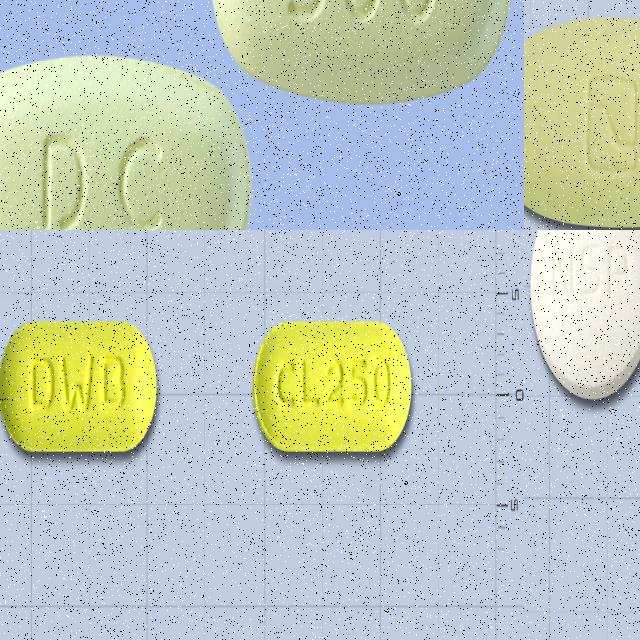Ciproctan - 500mg: (527, 230, 640, 410)
Claroma: (524, 14, 640, 230)
Clavix: (0, 47, 256, 230), (207, 0, 515, 110)
Daewoong Clarithromycin: (0, 320, 158, 452), (254, 320, 412, 452)
